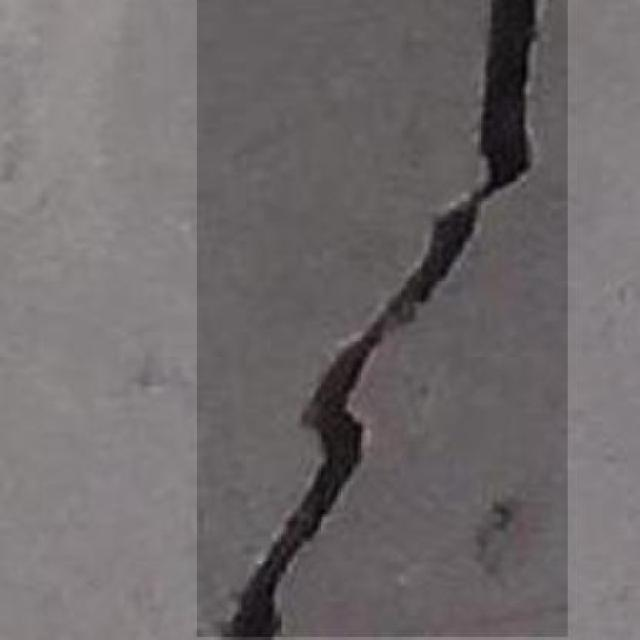Crack: (225, 2, 579, 640)
